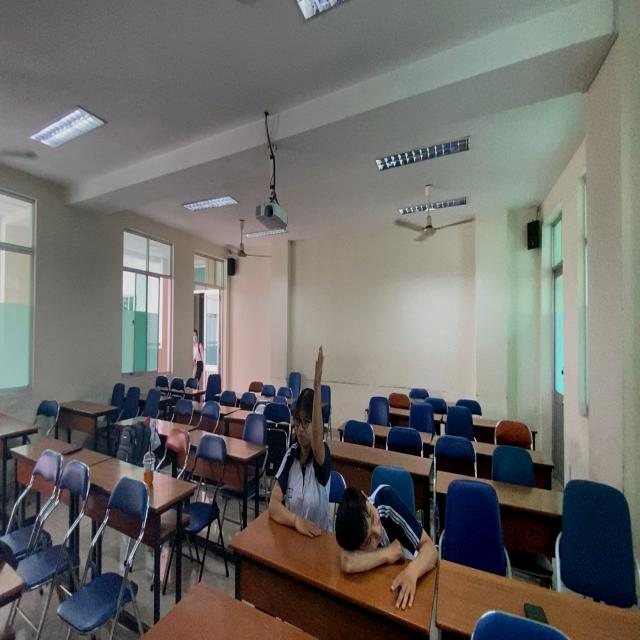raise_hand: (263, 348, 353, 563)
sleep: (336, 474, 469, 615)
